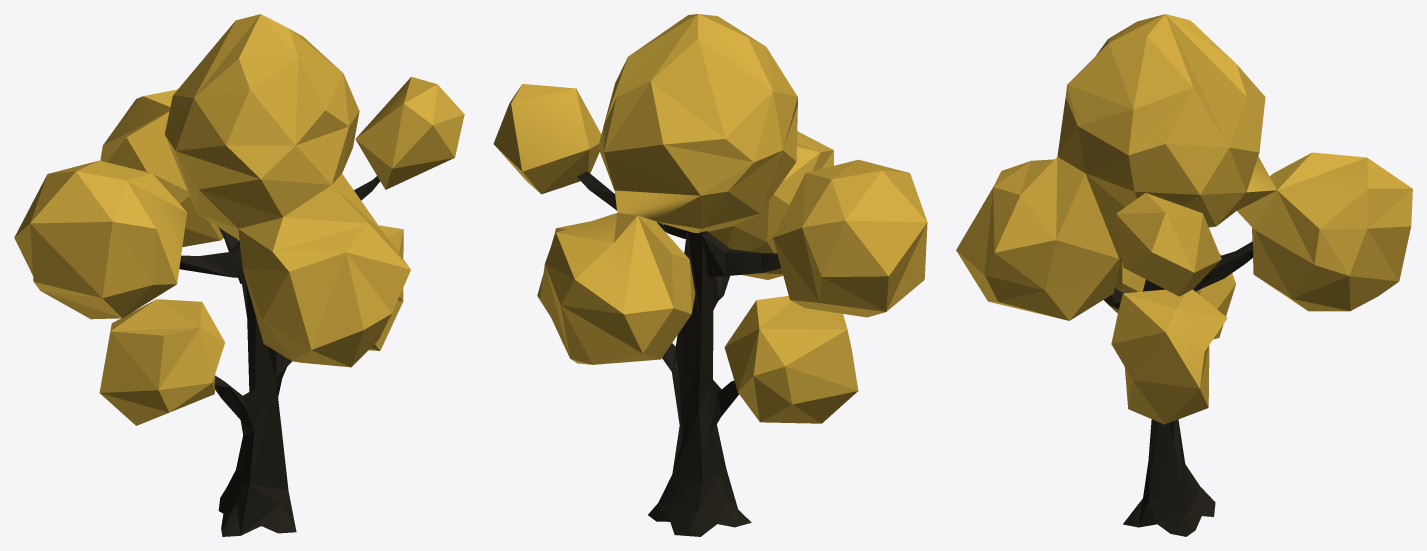
File: tree_1_3.obj
3 views of the same model, side by side, from view 1: azimuth 30°, elevation 25°; view 2: azimuth 150°, elevation 25°; view 3: azimuth 270°, elevation 25° (orthographic).
Parts seen in each view (by area): view 1: pSphere11, pCube1; view 2: pSphere11, pCube1; view 3: pSphere11, pCube1.
Part boxes in pixels (x1,y1,x2,y2): pSphere11: (14,14,464,425); pCube1: (179,176,379,536); pSphere11: (493,14,927,423); pCube1: (577,171,780,536); pSphere11: (956,14,1412,424); pCube1: (1104,241,1253,536).
Size of the model in its own units: 22.5 by 25.43 by 20.92.
